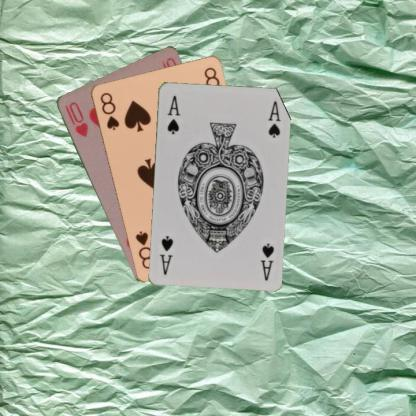10h: (62, 99, 89, 138)
8s: (97, 90, 120, 131)
As: (164, 93, 181, 135), (258, 240, 274, 282)
